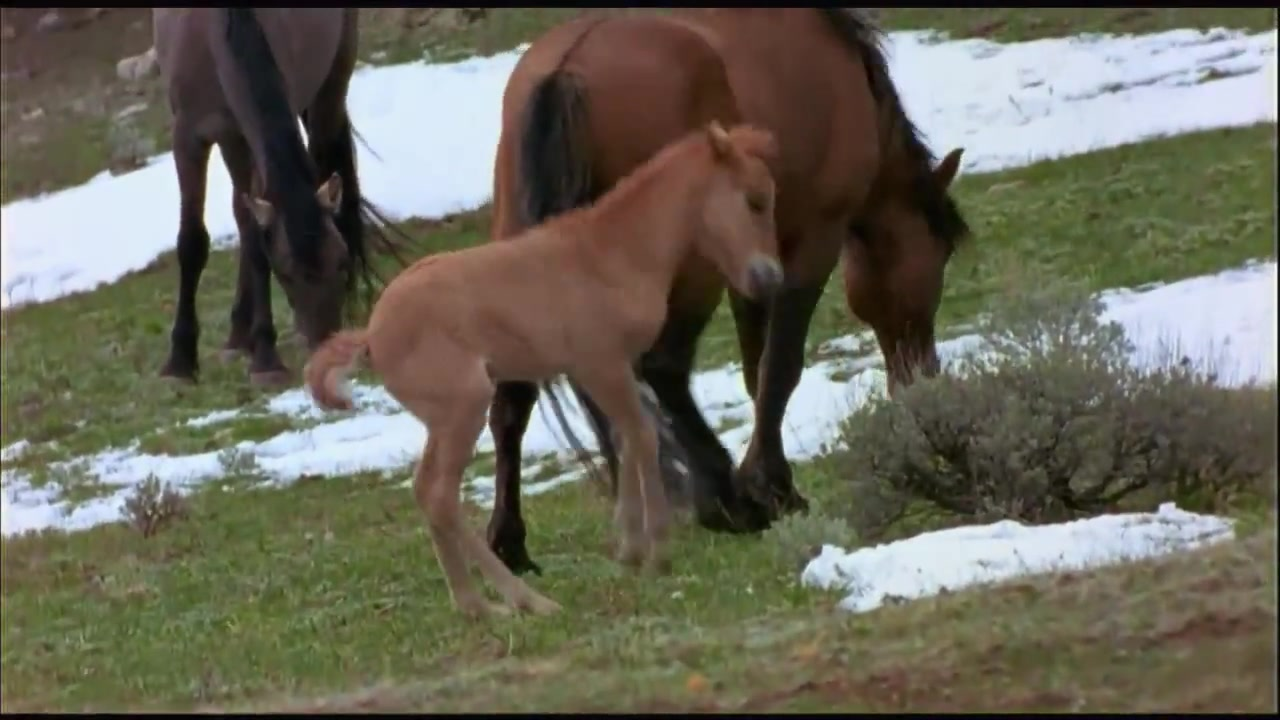horse: (305, 120, 787, 634)
